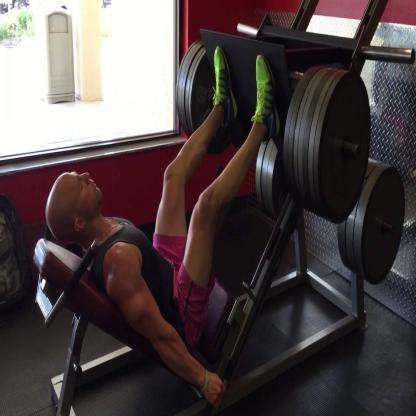leg press: (18, 0, 414, 416)
